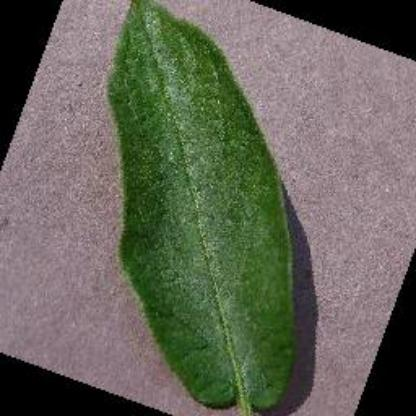Healthy-plant: (86, 0, 326, 416)
